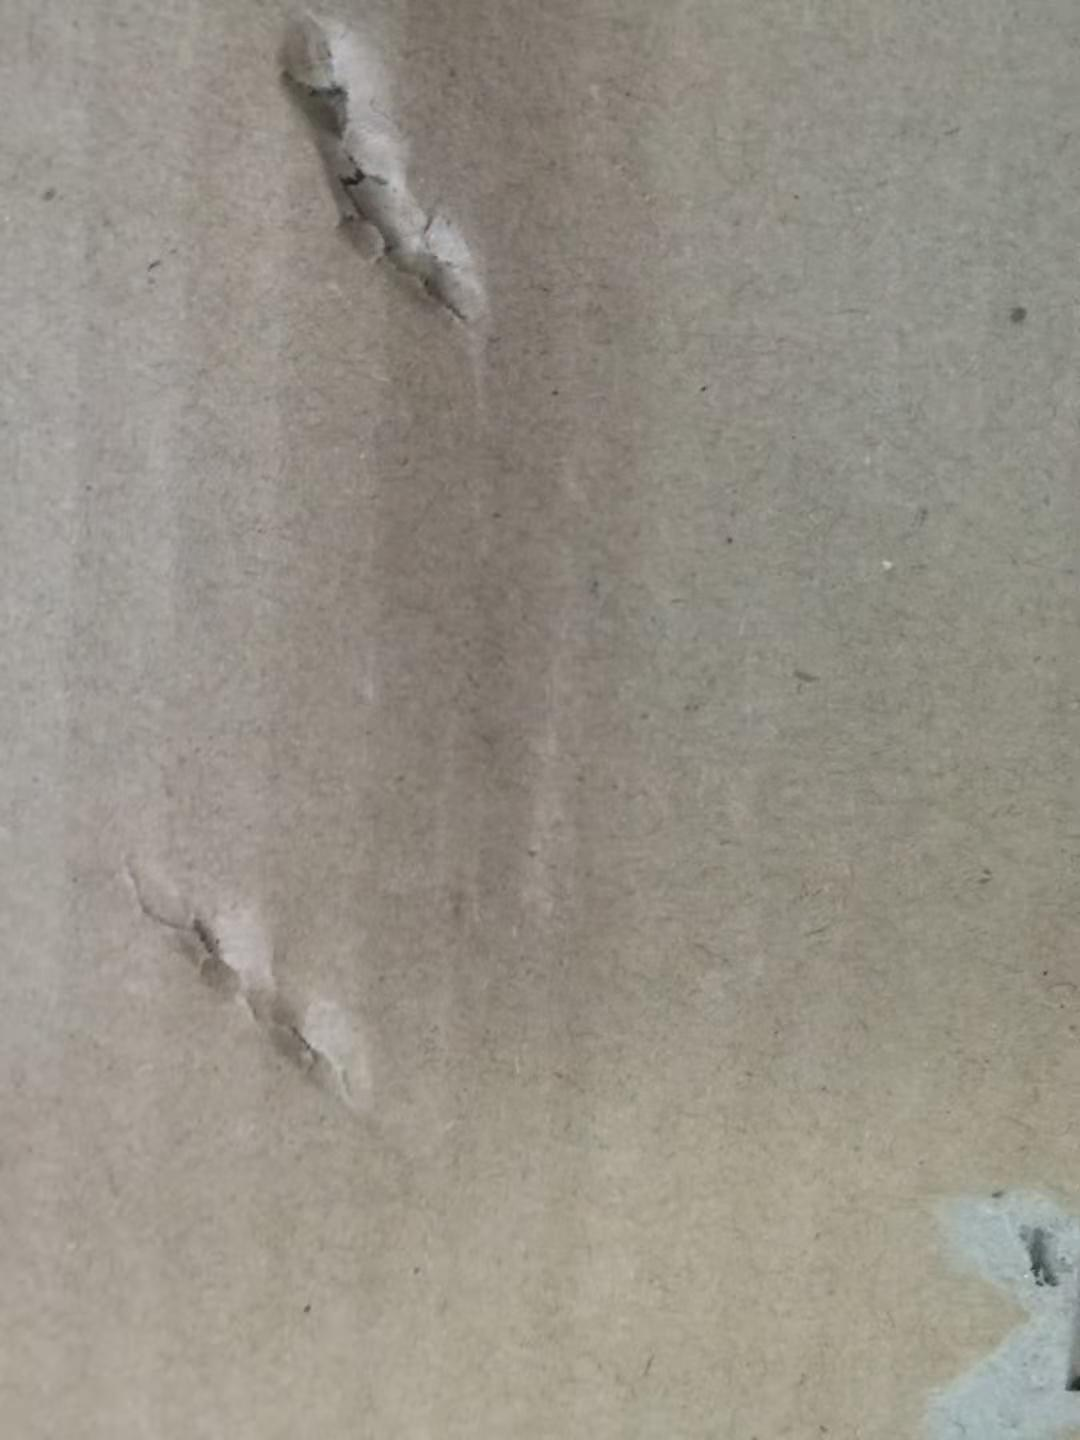defect: (74, 827, 431, 1167), (234, 5, 539, 376), (877, 1135, 1080, 1435)
